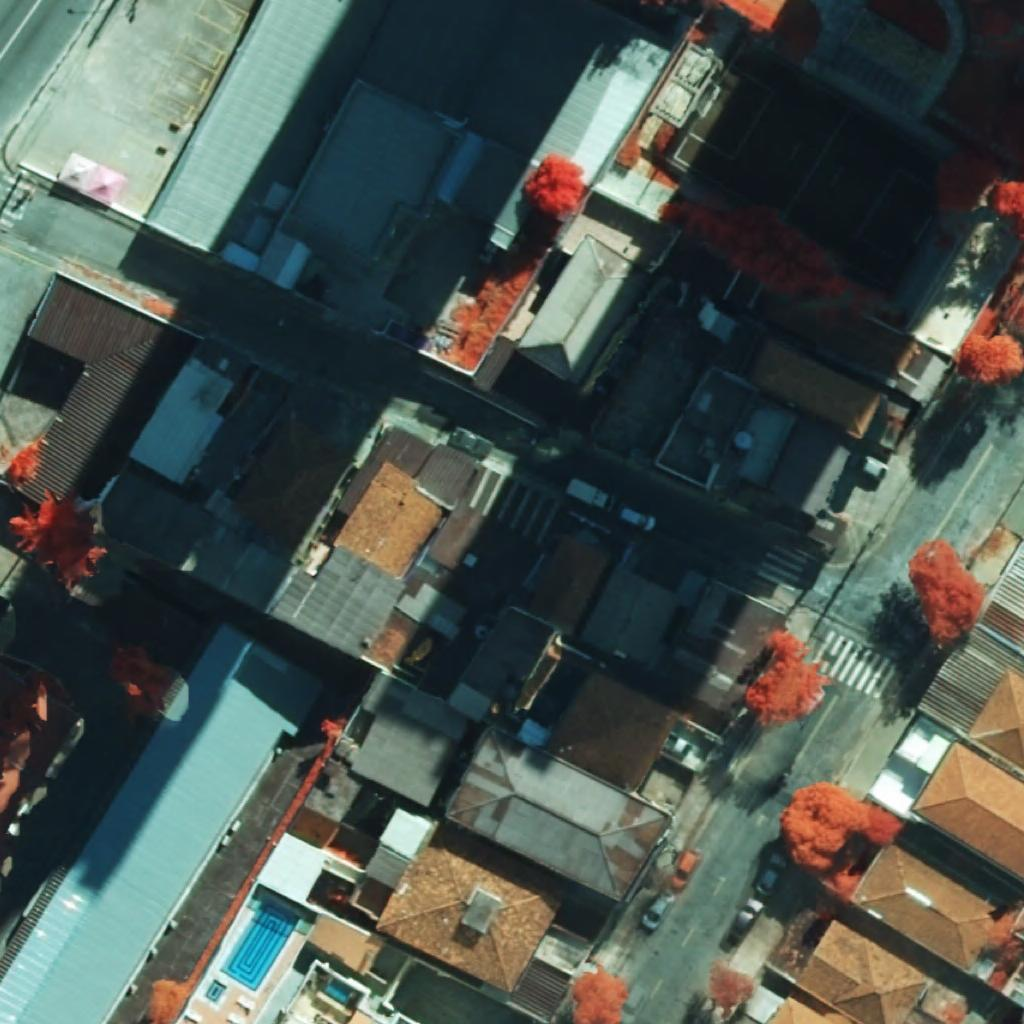pool: (220, 898, 300, 992)
